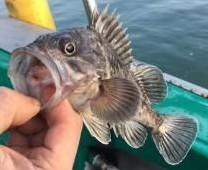fish: (8, 0, 197, 166)
